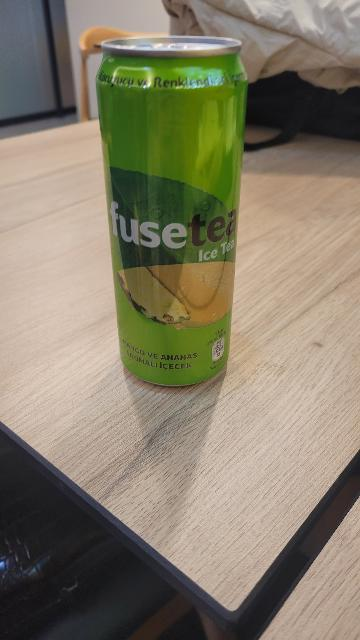Metal: (92, 32, 243, 390)
